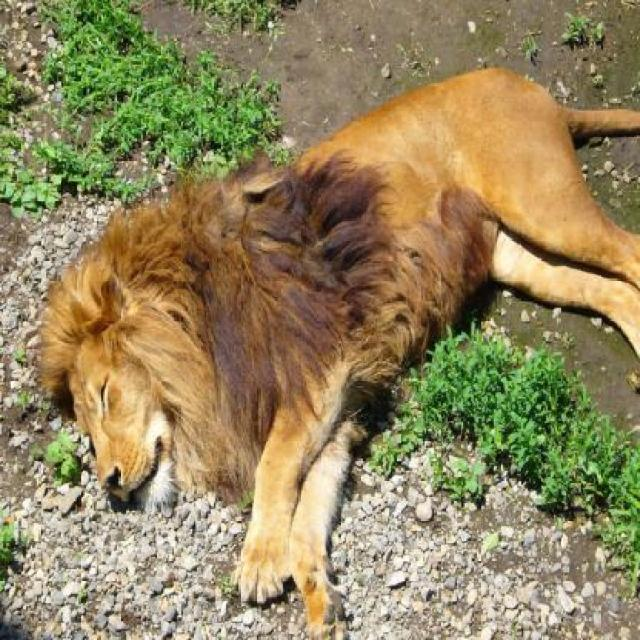Lion: (19, 24, 636, 638)
